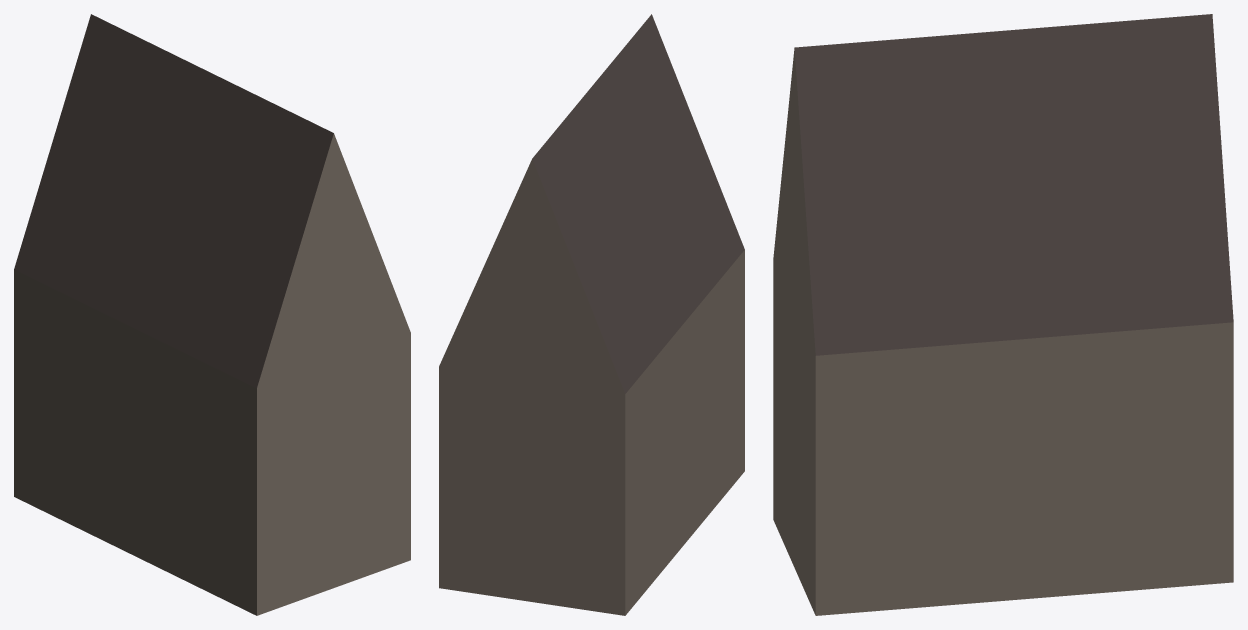
The picture shows the model from 3 angles, left to right: view 1: azimuth 30°, elevation 25°; view 2: azimuth 150°, elevation 25°; view 3: azimuth 270°, elevation 25°; orthographic projection. The views are drawn at different scales.
Visible parts, largest first — view 1: HP-w428179923; view 2: HP-w428179923; view 3: HP-w428179923.
Boxes of the visible parts, box(x1,y1,x2,y2) form: HP-w428179923: box(14, 14, 410, 615); HP-w428179923: box(439, 14, 744, 615); HP-w428179923: box(773, 14, 1233, 615).
Size of the model in its own units: 3.21 by 6 by 4.81.
